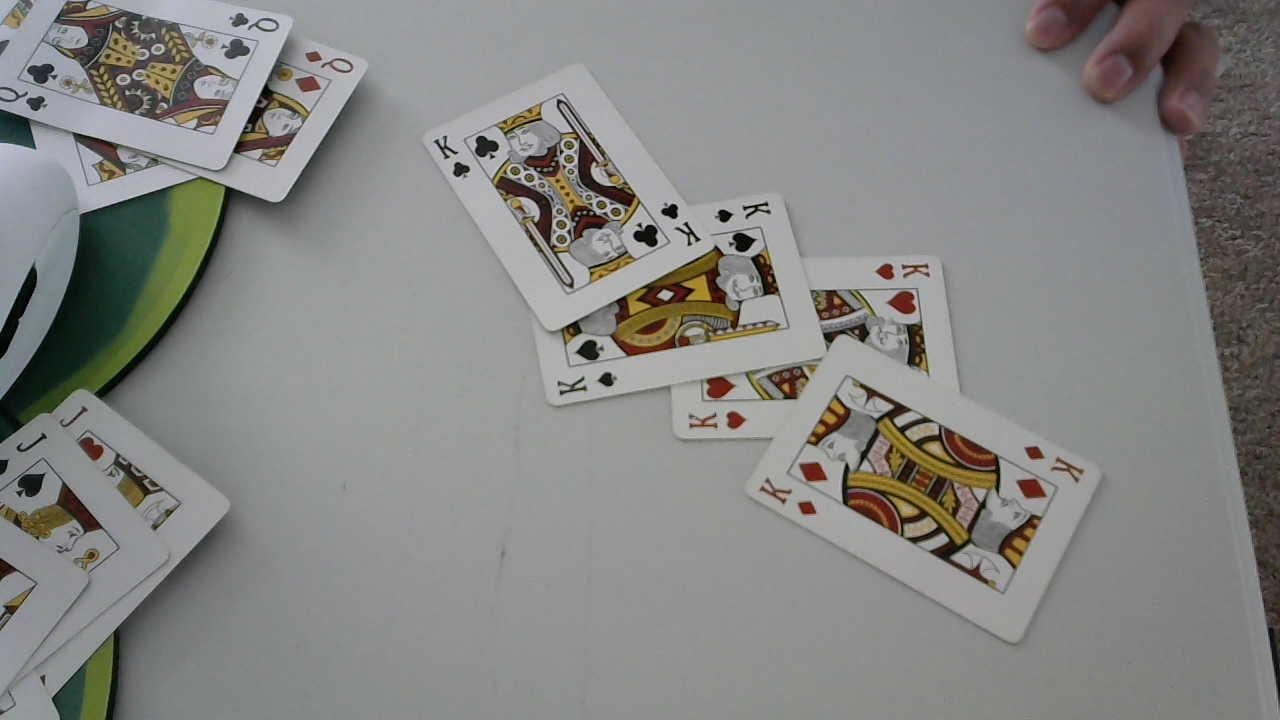KC: (658, 200, 702, 248), (432, 133, 472, 179)
KD: (754, 473, 823, 522), (1020, 441, 1088, 484)
KH: (686, 408, 750, 432), (874, 258, 936, 280)
KS: (554, 369, 621, 398), (710, 199, 772, 226)
QD: (303, 46, 357, 77)
QS: (227, 10, 281, 34)
